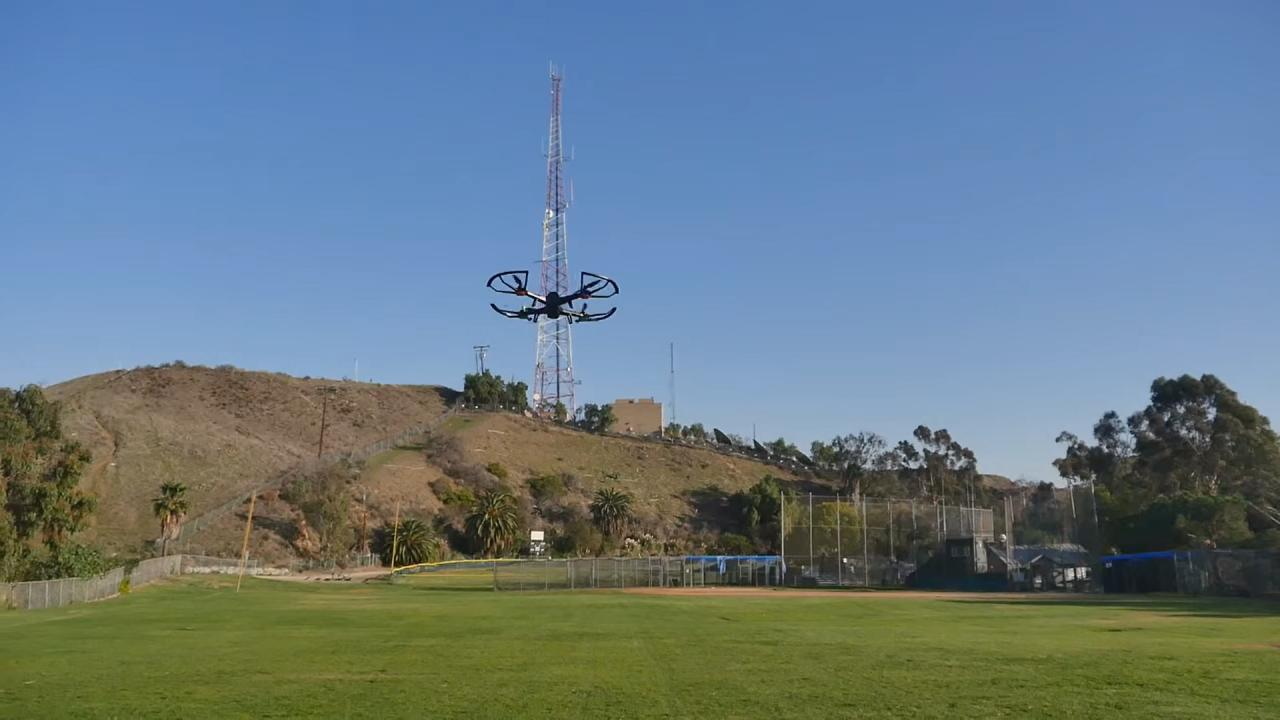Drone: (472, 259, 632, 338)
